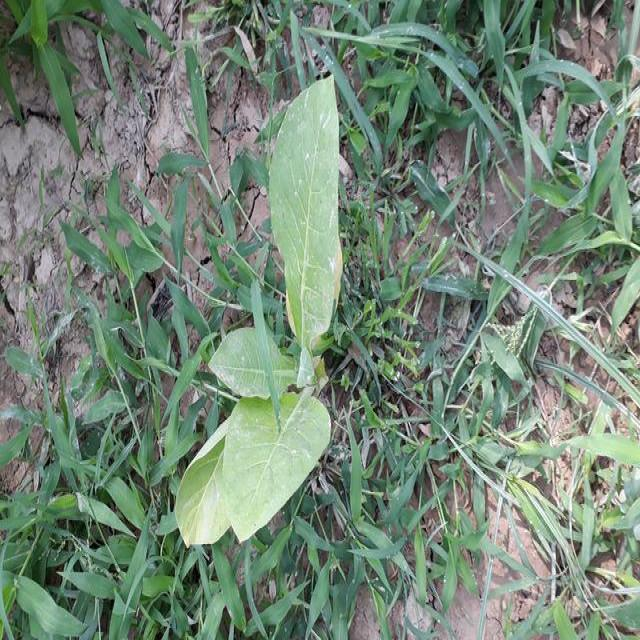crop: (176, 74, 346, 552)
